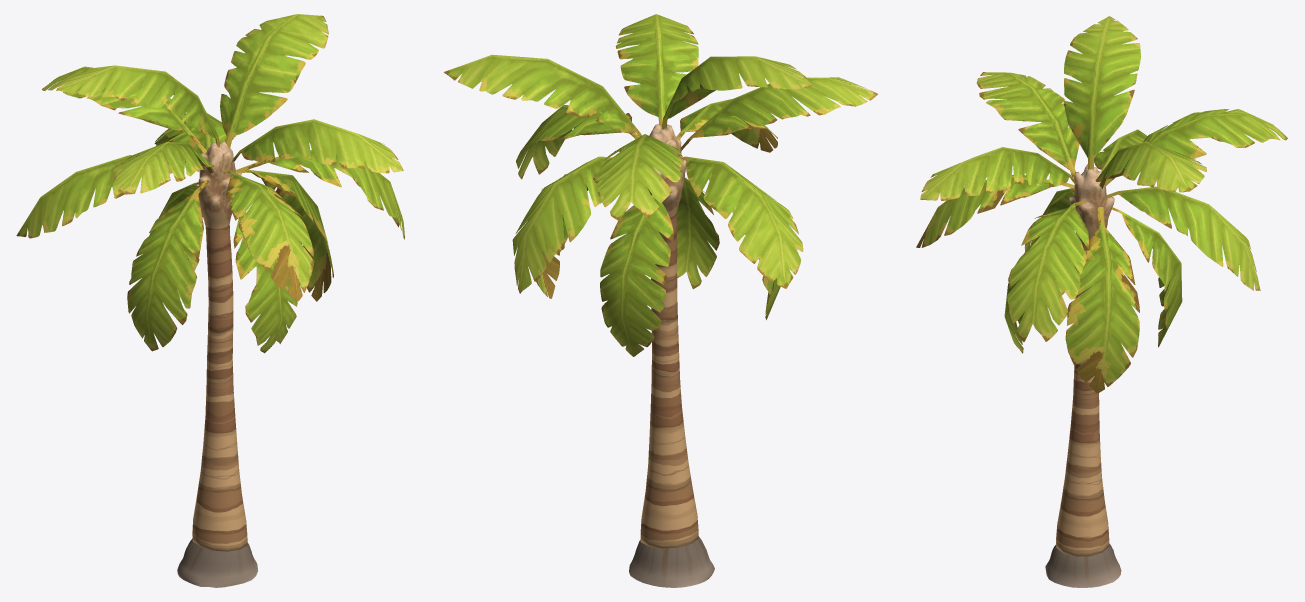
File: Palm_04_LODs.fbx
3 renders of one model, left to right at view 1: azimuth 30°, elevation 25°; view 2: azimuth 150°, elevation 25°; view 3: azimuth 270°, elevation 25°, orthographic. The views are drawn at different scales.
Visible parts, largest first — view 1: Palm_04_LOD0; view 2: Palm_04_LOD0; view 3: Palm_04_LOD0.
Part boxes in pixels (x1,y1,x2,y2): Palm_04_LOD0: [16, 14, 404, 587]; Palm_04_LOD0: [444, 14, 877, 587]; Palm_04_LOD0: [916, 16, 1287, 587].
Size of what is drawn, in the model's own units: 343 by 530 by 364.
